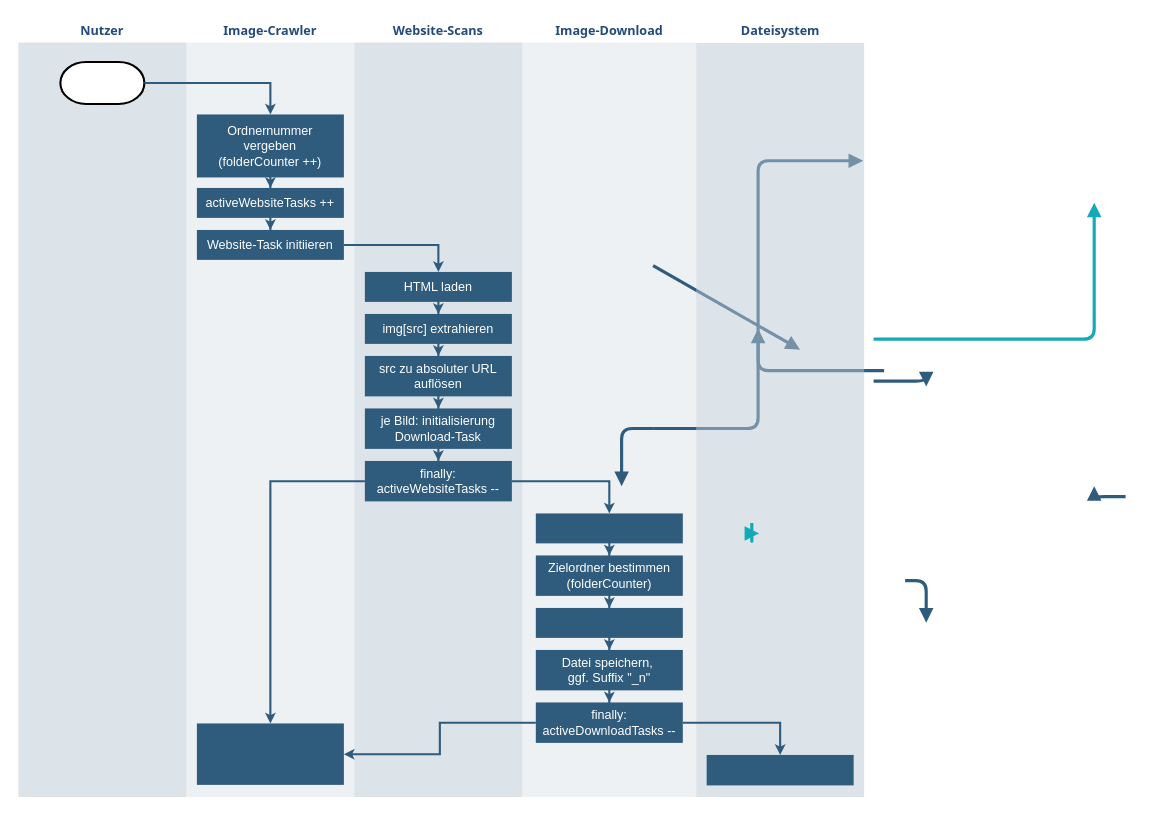
Some shapes in this 1153 by 815 pixel diagram are drawn without their labels. Here are the shapes that lost their labels. From the top down, the centre of each, then its label:
point 102,82: Aufruf crawl URI
point 608,528: activeDownloadTasks ++
point 608,622: Dateiname bestimmen
point 269,753: Überprüfung isIdle() (Website - und DownloadTasks == 0)
point 779,769: Bilddatei speichern
